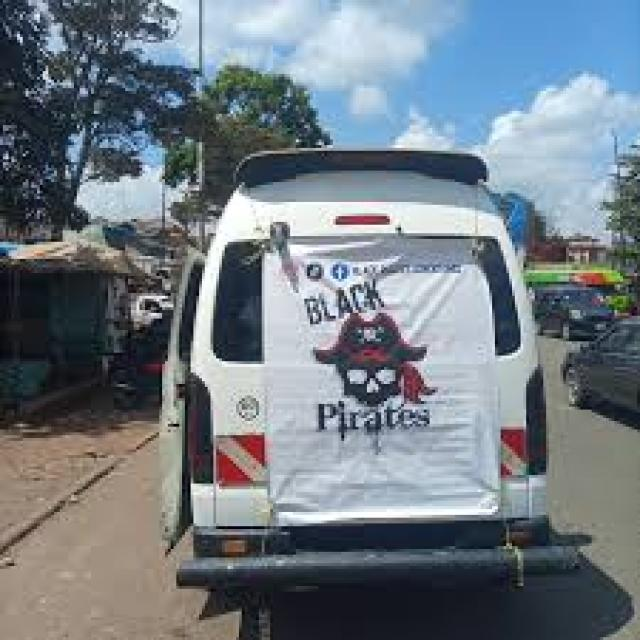matatu: (114, 73, 639, 638)
